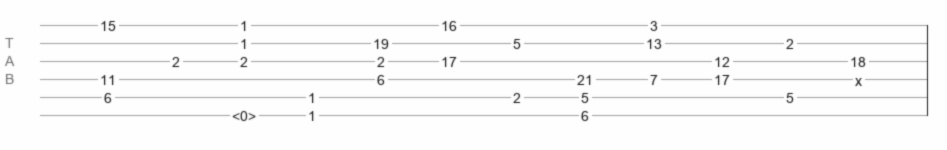1: (240, 18, 248, 28), (240, 36, 248, 46), (308, 108, 316, 118), (308, 90, 316, 100)
11: (100, 72, 116, 82)
12: (714, 54, 730, 64)
13: (646, 36, 662, 46)
15: (100, 18, 116, 28)
16: (441, 18, 457, 28)
17: (441, 54, 457, 64), (714, 72, 730, 82)
18: (850, 54, 866, 64)
19: (373, 36, 389, 46)
2: (172, 54, 180, 64), (240, 54, 248, 64), (377, 54, 385, 64), (513, 90, 521, 100), (786, 36, 794, 46)
21: (577, 72, 593, 82)
3: (650, 18, 658, 28)
5: (513, 36, 521, 46), (581, 90, 589, 100), (786, 90, 794, 100)
6: (104, 90, 112, 100), (377, 72, 385, 82), (581, 108, 589, 118)
7: (650, 72, 658, 82)
harmonic: (232, 108, 256, 118)
x: (855, 73, 862, 81)
